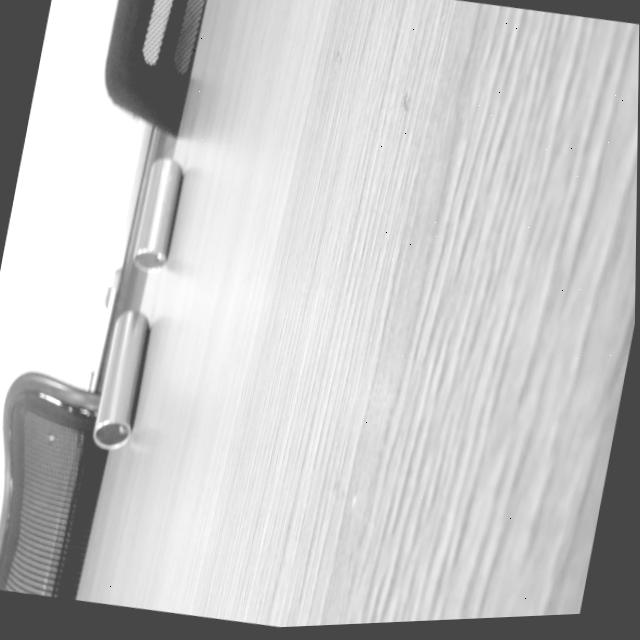Co_Lon: (91, 306, 152, 452)
Co_Nho: (131, 154, 185, 273)
